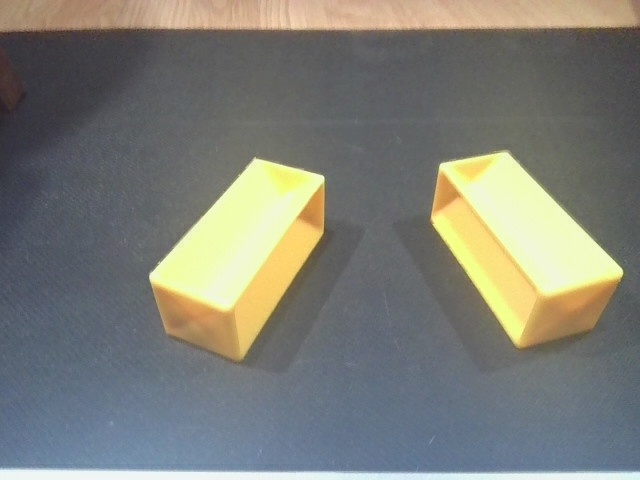YellowSample: (426, 147, 625, 354), (142, 155, 330, 364)
